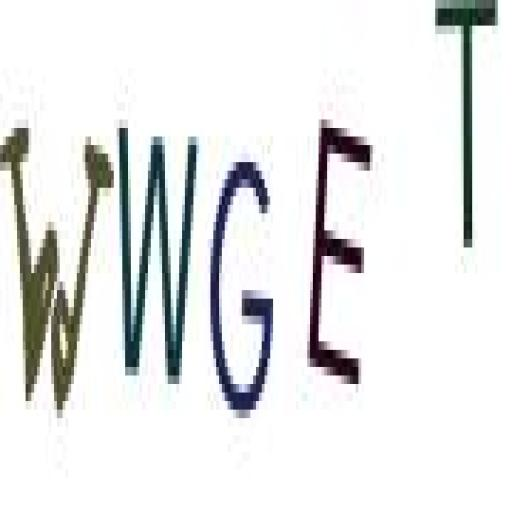E: (307, 110, 374, 411)
G: (204, 145, 284, 437)
T: (433, 0, 502, 268)
W: (2, 110, 116, 428), (115, 116, 201, 395)
